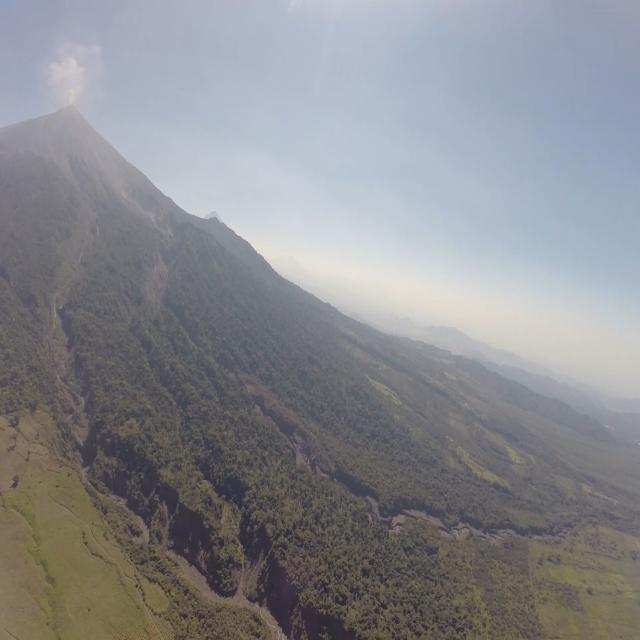Plume: (46, 53, 90, 103)
Summit: (60, 99, 80, 119)
